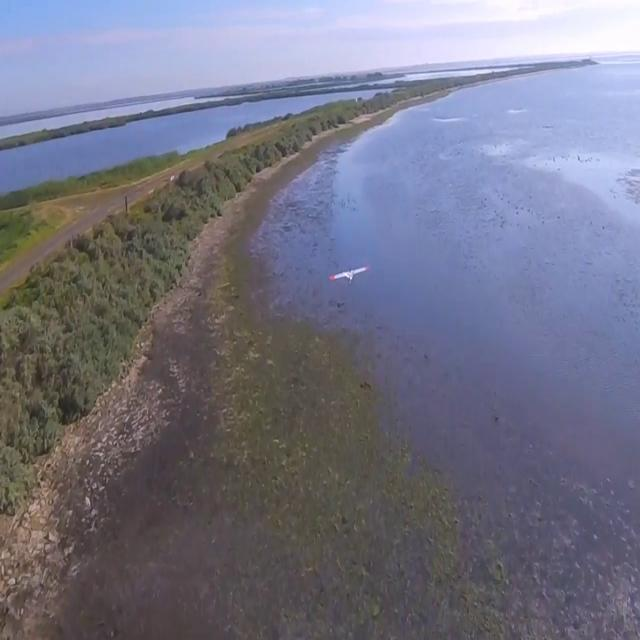iha: (328, 259, 368, 288)
